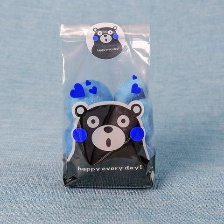snack: (50, 15, 162, 195)
